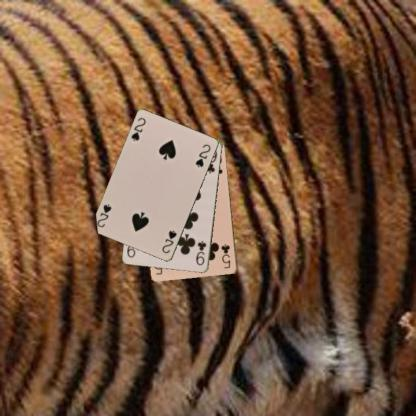2s: (159, 228, 178, 255), (129, 115, 147, 143)
5c: (219, 241, 232, 270)
9c: (194, 239, 208, 267)
